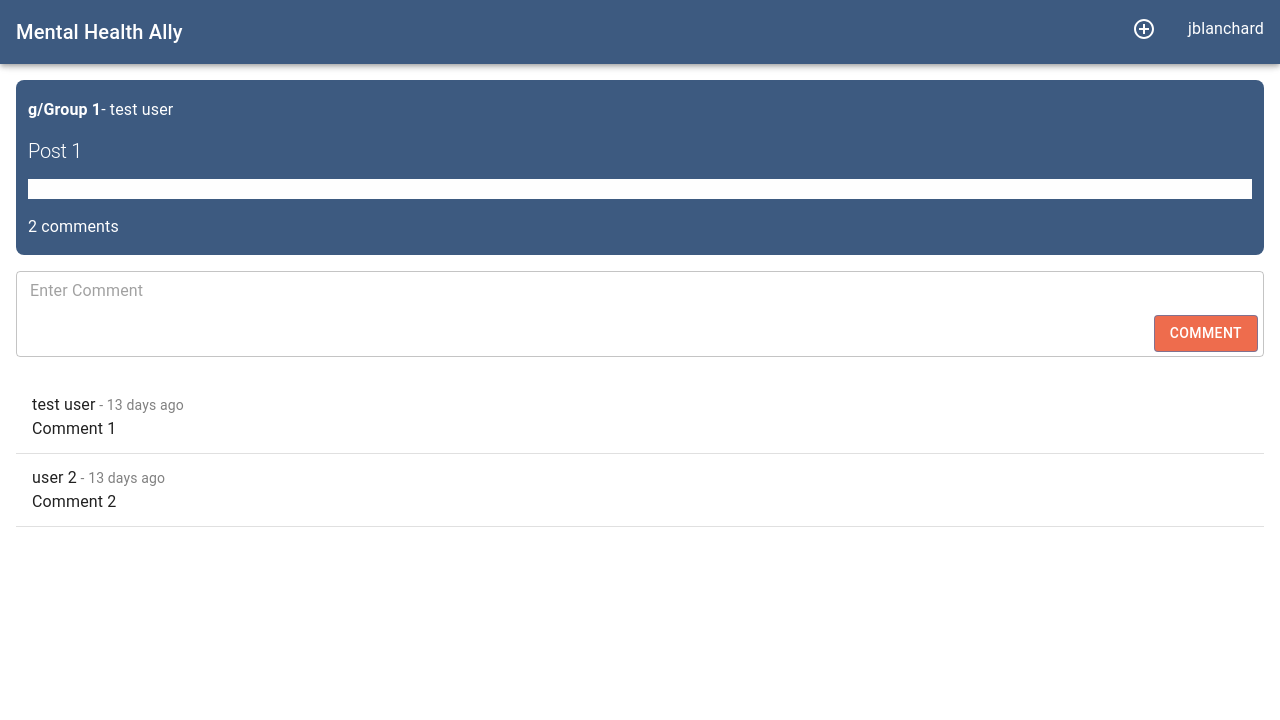
it: Post Page › Creating a new comment adds the new comment to the list of comments
Type "Comment 3" into the text box at (588, 314), box [30, 279, 1146, 348]
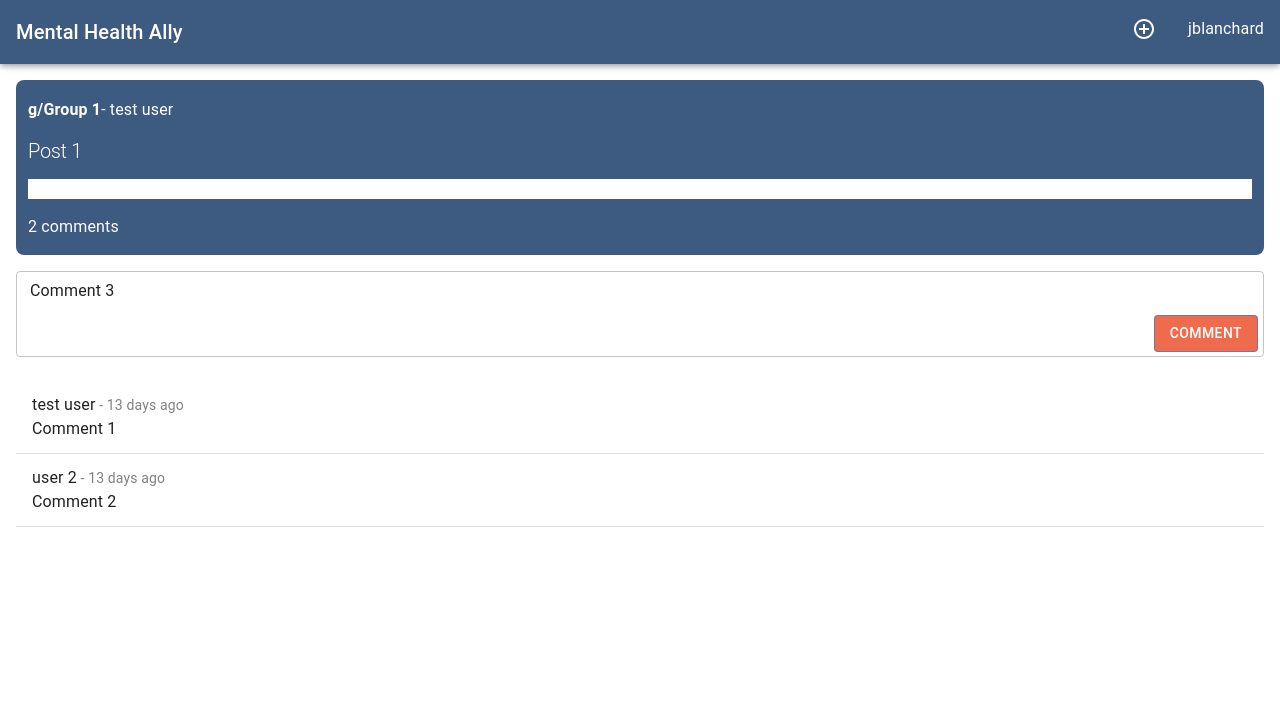
Submit the form from the button "Comment", box [1154, 315, 1258, 352]
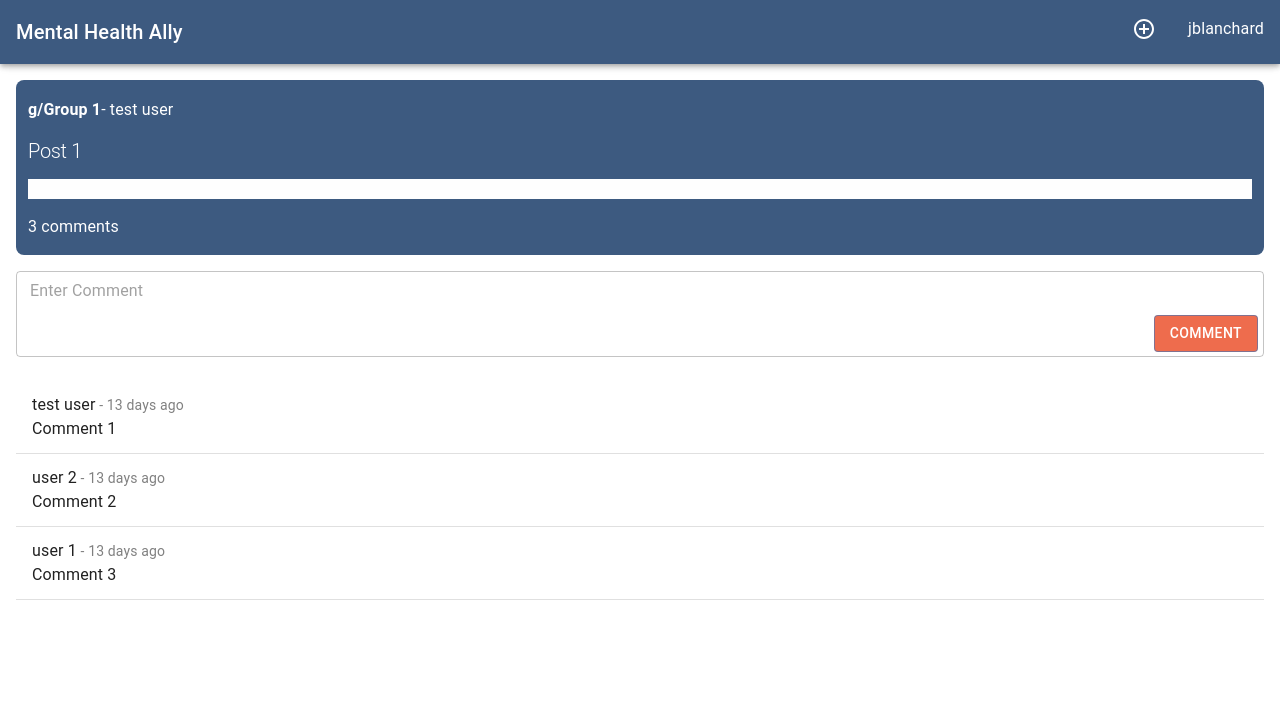
Check: the number of list items is 3, box [16, 380, 1264, 454]; [16, 454, 1264, 526]; [16, 526, 1264, 600]
